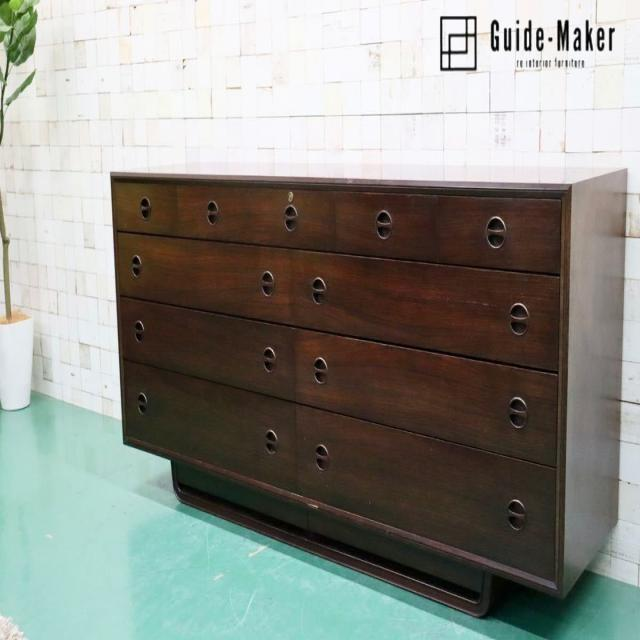vintage shelf: (102, 152, 630, 628)
